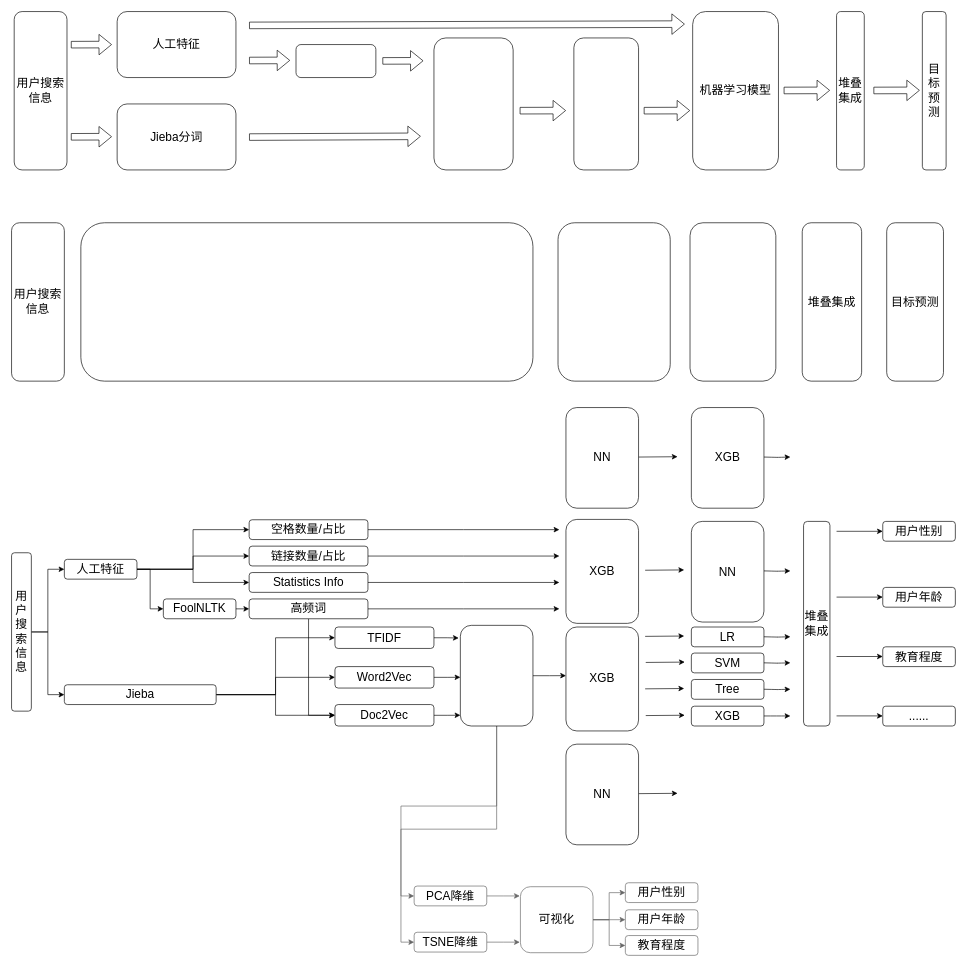
Some shapes in this 967 by 967 pixel diagram are drawn without their labels. Here are the shapes that lost their labels. From the top down, the centre of each, then its label:
(335,61): 高频词
(473,103): 词向量特征
(606,103): NN模型
(306,301): 特征工程
(613,301): 构建一层模型
(732,301): 构建二层模型
(496,675): 词向量
